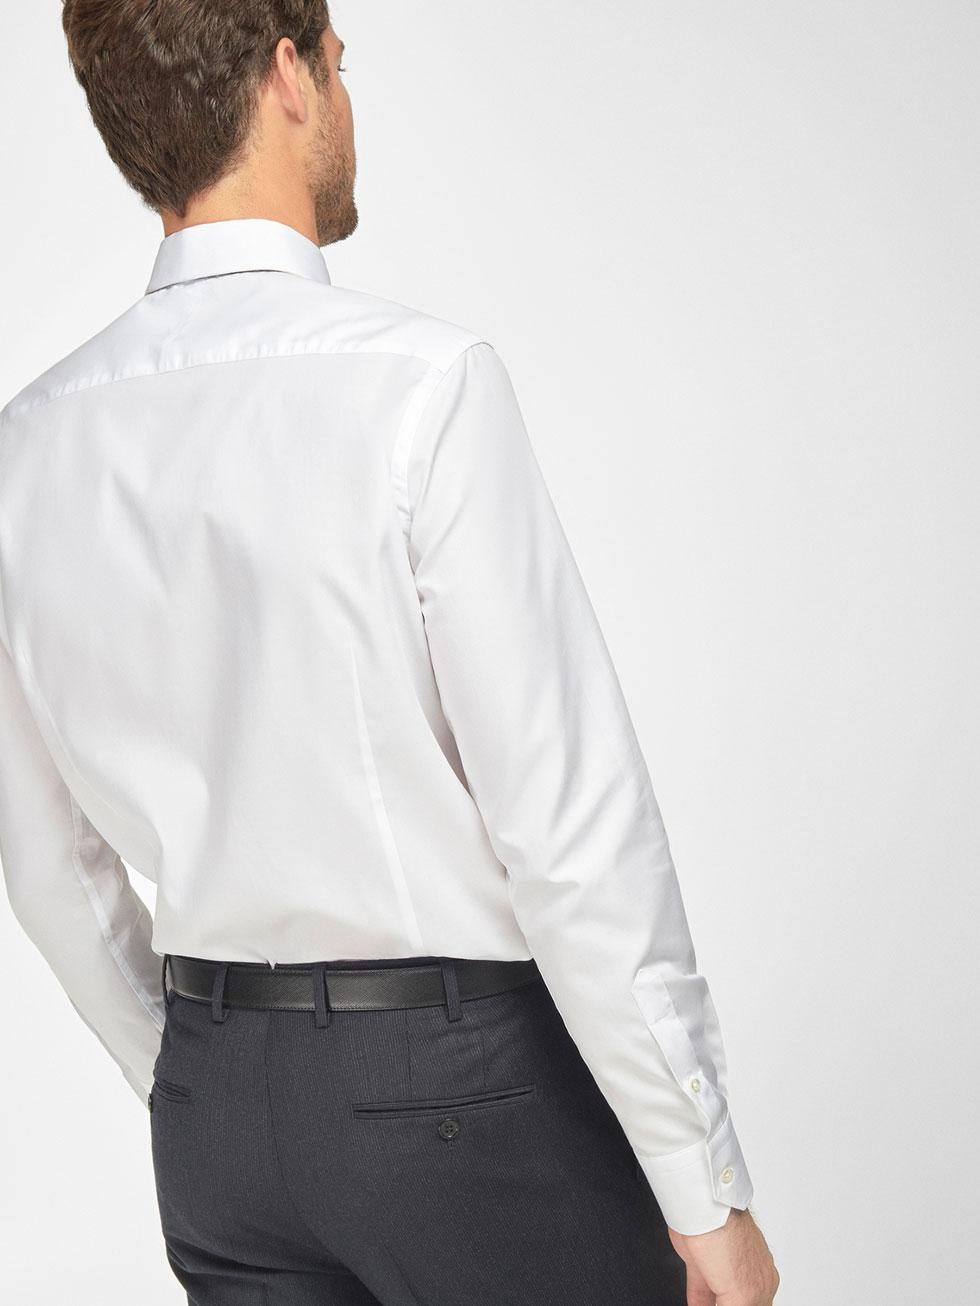teeshirt: (3, 219, 801, 1261)
